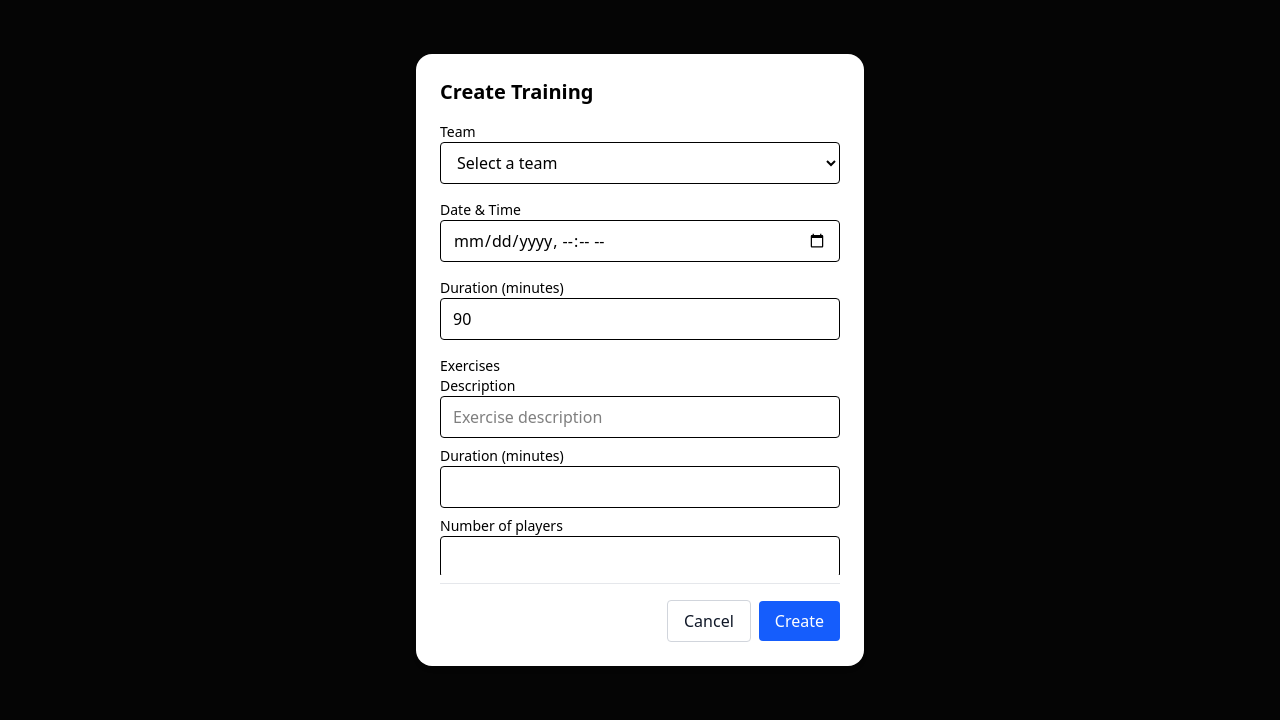
Scenario: blocks submission and shows a validation message when no team is selected
The image size is (1280, 720).
Step 1. Type "2027-01-01T10:00" into the field named "day" → (640, 241), box [440,220,840,262]
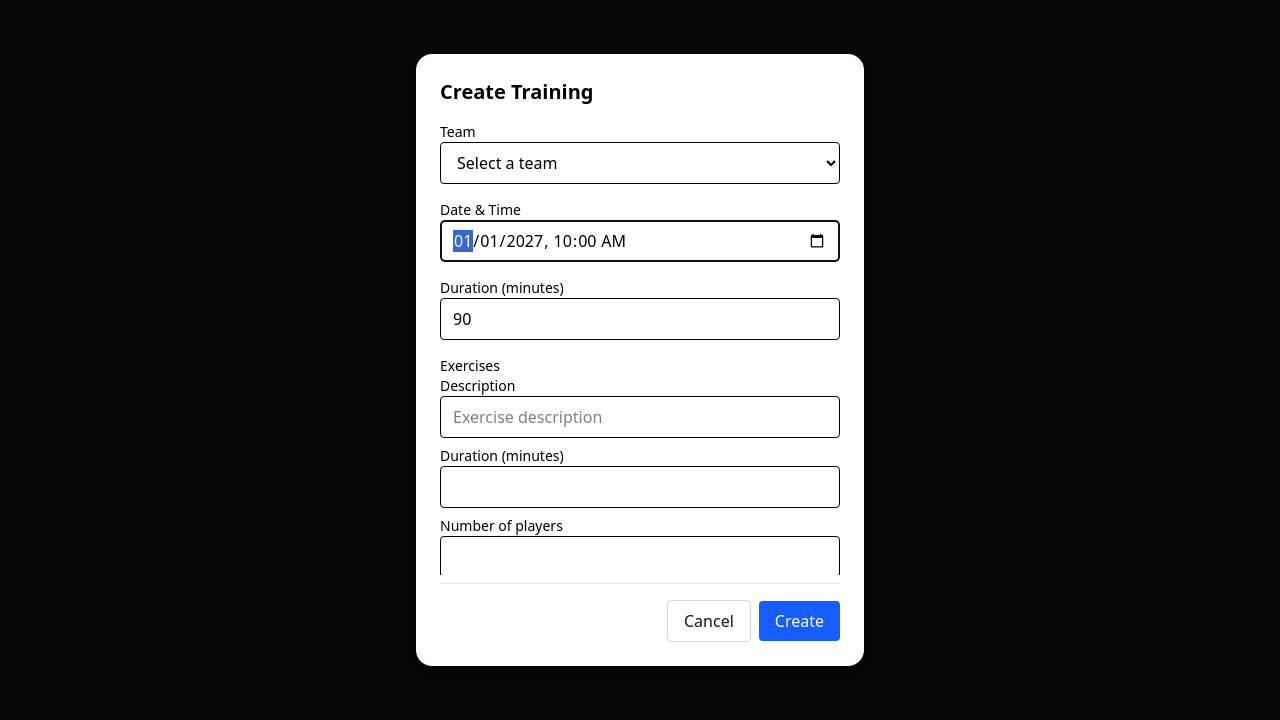
Step 2. Click the button "Create" → (799, 621), box [759,601,840,641]
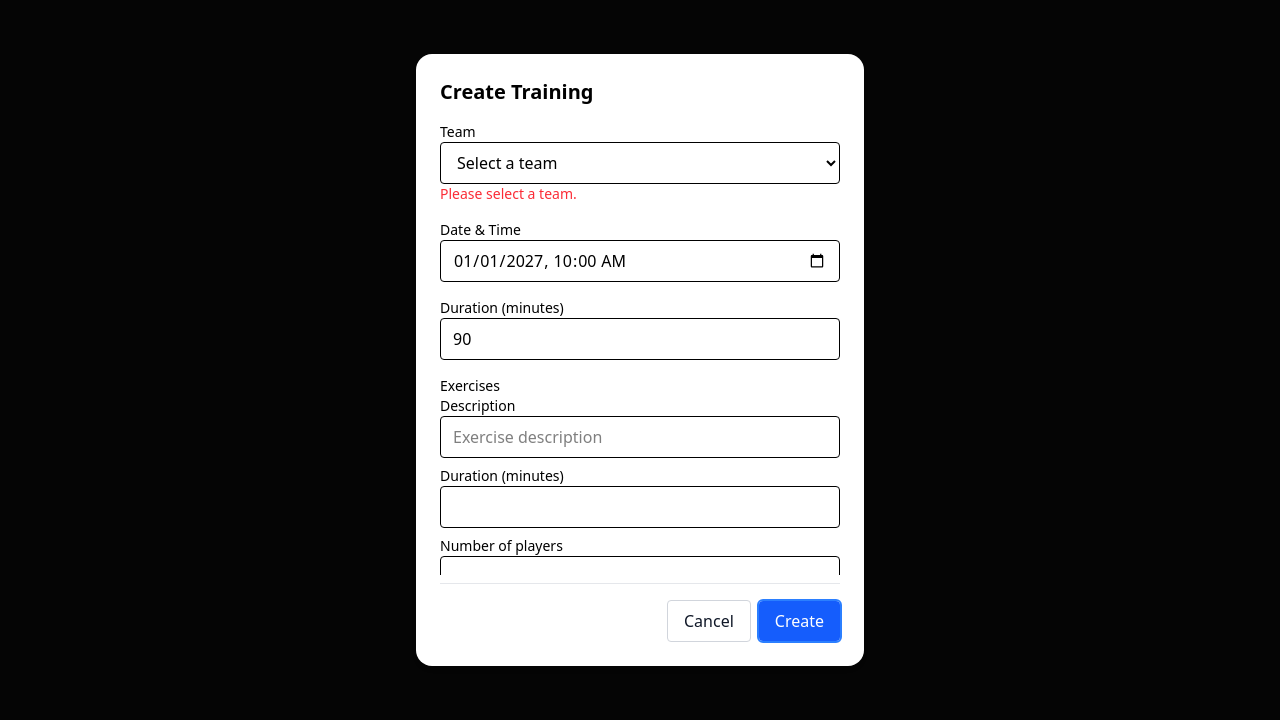
Check: the text "Please select a team." is shown, box [440,184,577,203]
